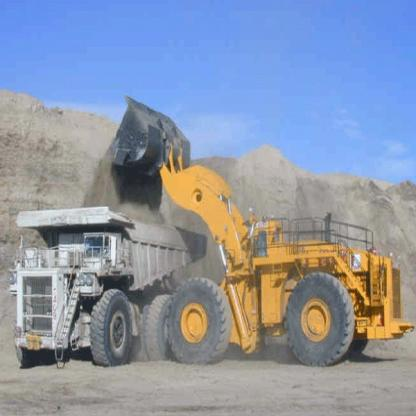bull_dozer/loader/grader: (86, 85, 415, 380)
